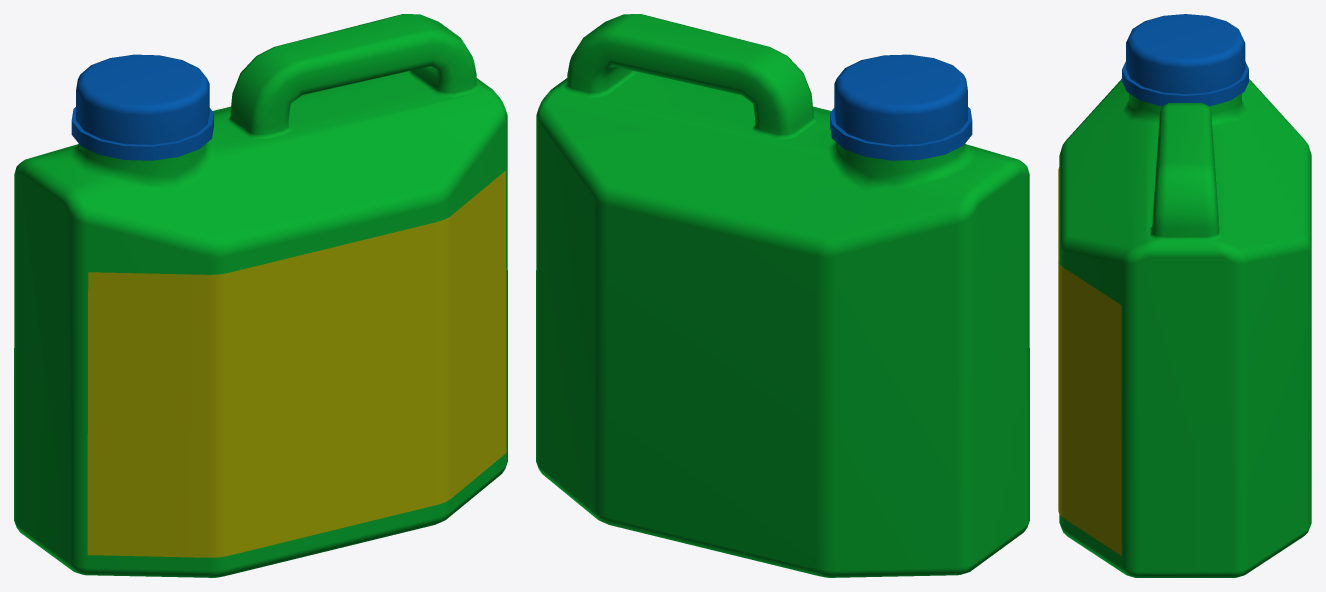
The model's file is SM_canister_small.fbx.
3 renders of one model, left to right at view 1: azimuth 30°, elevation 25°; view 2: azimuth 150°, elevation 25°; view 3: azimuth 270°, elevation 25°, orthographic. The views are drawn at different scales.
Parts seen in each view (by area): view 1: SM_canister_small; view 2: SM_canister_small; view 3: SM_canister_small.
Boxes of the visible parts, box(x1,y1,x2,y2) form: SM_canister_small: box(14, 14, 507, 577); SM_canister_small: box(536, 14, 1029, 577); SM_canister_small: box(1058, 14, 1311, 577).
Bounding box in the file's own units: 0.497 × 0.4944 × 0.2833.
